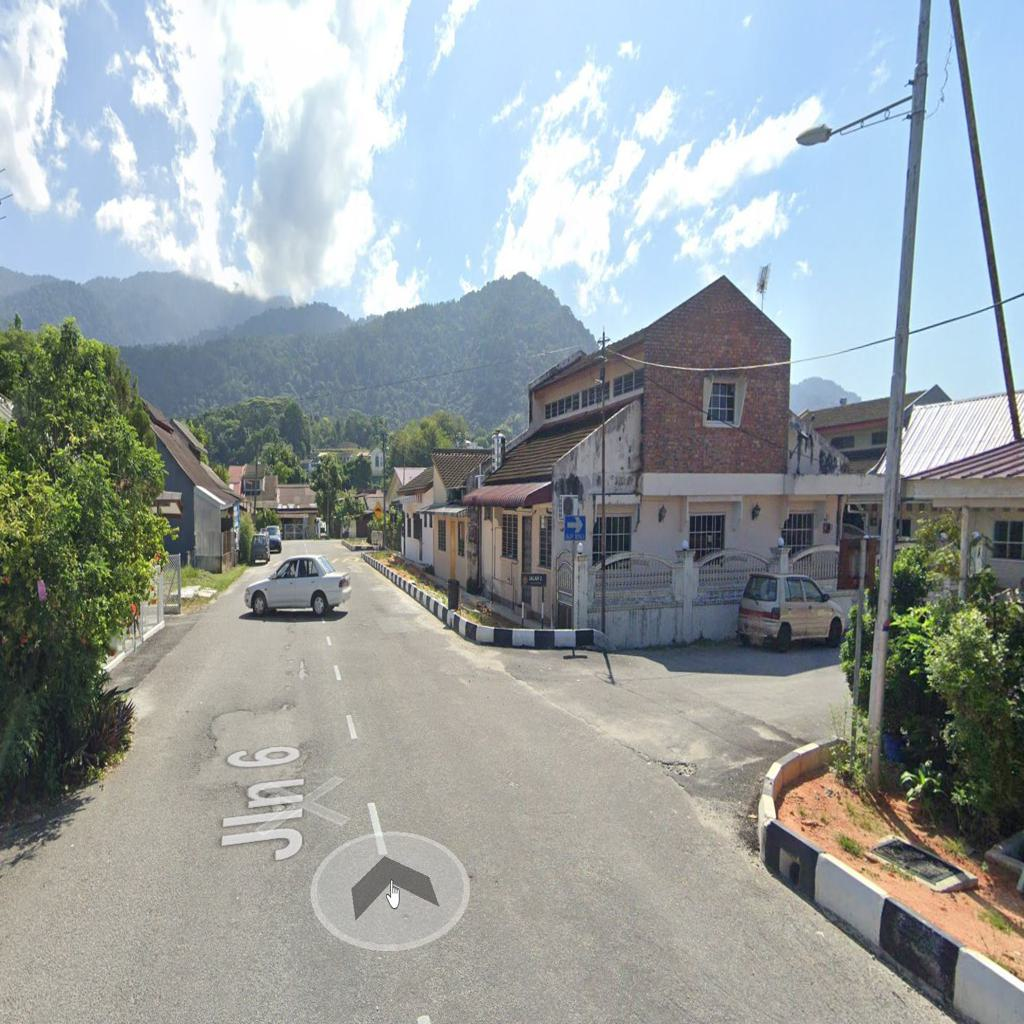Junction: (463, 557, 857, 892)
